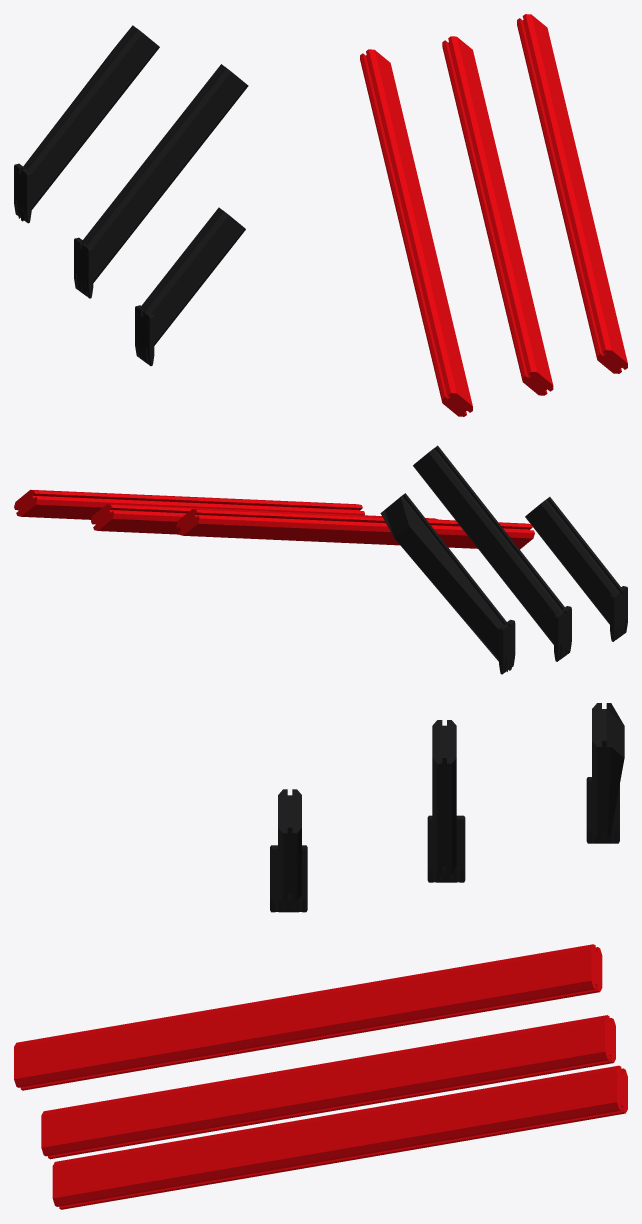
Rendered from roof_steel.fbx.
The picture shows the model from 3 angles, top to bottom: view 1: azimuth 30°, elevation 25°; view 2: azimuth 150°, elevation 25°; view 3: azimuth 270°, elevation 25°; orthographic projection. The views are drawn at different scales.
Visible parts, largest first — view 1: steel_roof; view 2: steel_roof; view 3: steel_roof.
Part boxes in pixels (x1,y1,x2,y2): steel_roof: (14,14,627,416); steel_roof: (14,445,627,674); steel_roof: (14,703,627,1209).
Size of the model in its own units: 2576 by 1197 by 1991.
